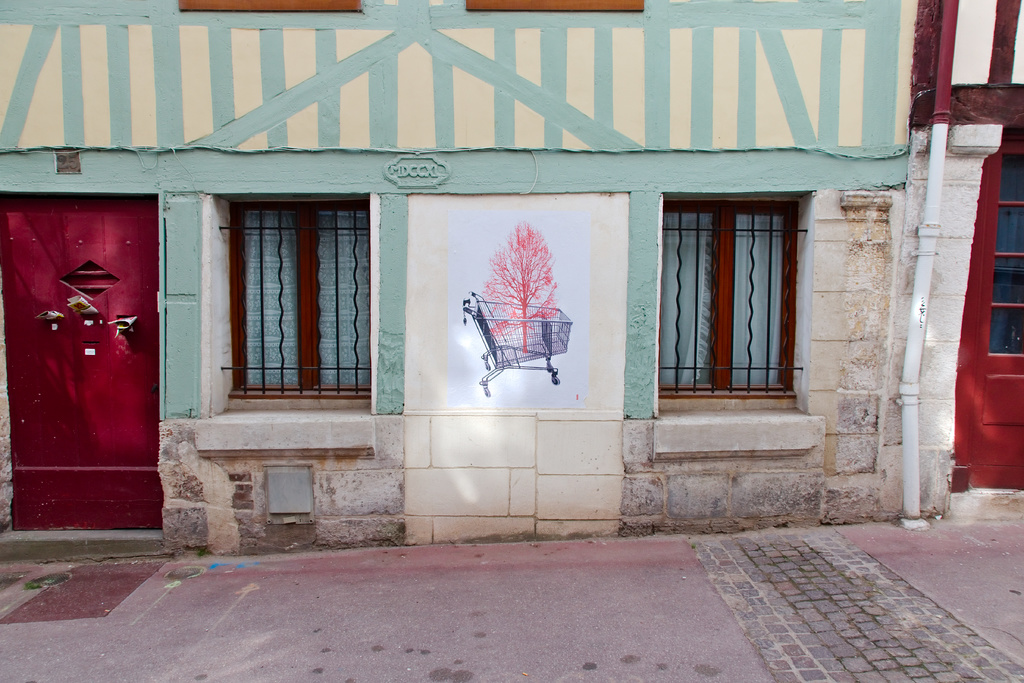door: (2, 204, 163, 526), (972, 207, 1024, 467)
